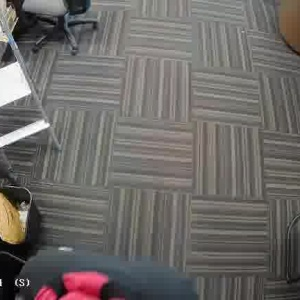person: (16, 250, 202, 300)
